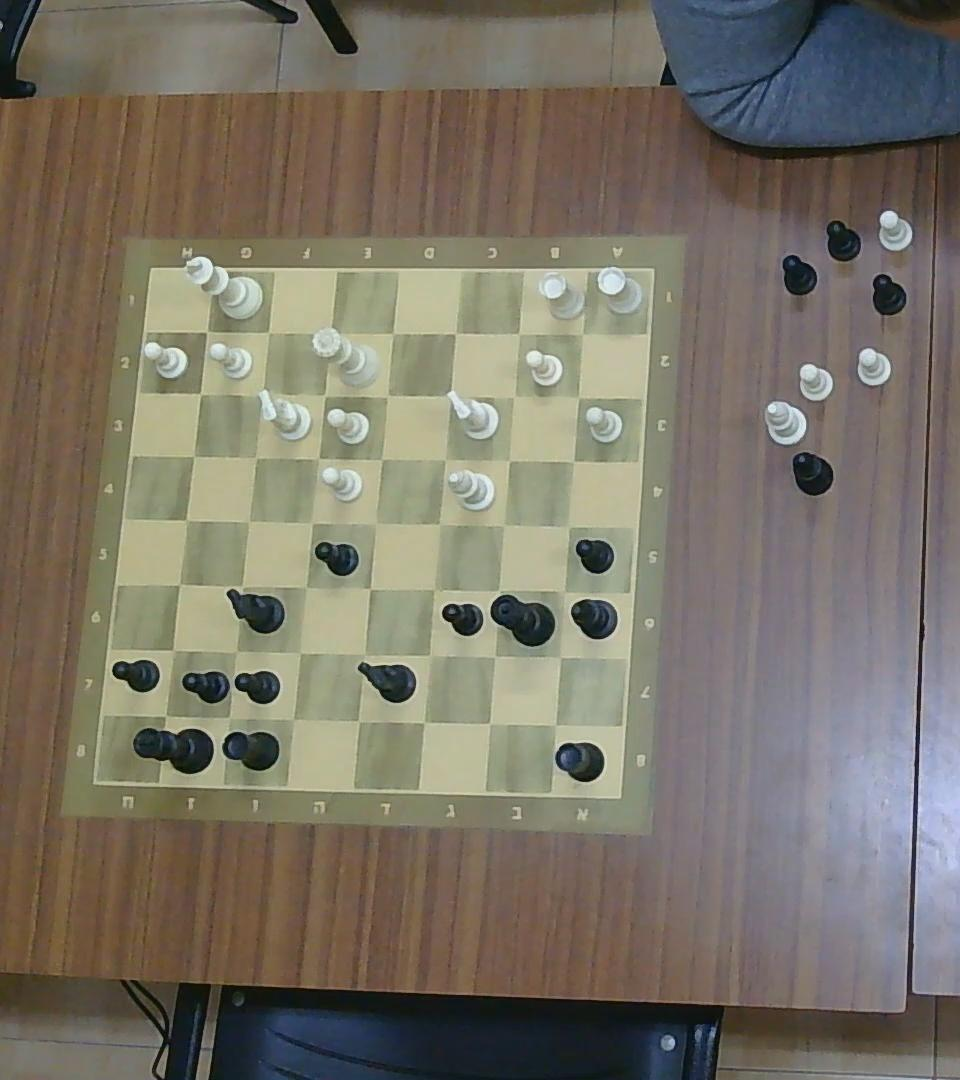xcorner: (215, 703, 241, 730), (477, 709, 503, 735), (280, 705, 305, 732), (411, 709, 437, 734), (541, 711, 567, 736), (153, 702, 178, 728), (167, 571, 192, 596), (346, 707, 370, 733), (547, 644, 572, 668), (561, 448, 585, 473), (161, 637, 185, 662), (288, 640, 311, 665), (482, 644, 505, 668), (427, 512, 450, 536), (236, 509, 259, 533), (229, 573, 252, 597), (318, 320, 341, 344), (557, 513, 580, 536), (419, 643, 442, 666), (352, 641, 375, 664), (487, 577, 510, 600), (175, 507, 197, 531), (224, 639, 246, 663), (363, 511, 385, 534), (196, 319, 218, 342), (422, 577, 444, 600), (182, 444, 204, 466), (438, 383, 460, 405), (552, 581, 575, 602), (493, 512, 513, 536), (295, 575, 315, 599), (258, 321, 279, 343), (251, 382, 272, 404), (360, 577, 380, 600), (371, 448, 392, 469), (498, 449, 518, 471), (301, 510, 321, 532), (568, 386, 590, 406), (445, 321, 465, 343), (383, 321, 403, 343), (434, 448, 454, 469), (376, 384, 396, 405), (508, 323, 528, 344), (308, 446, 327, 468), (246, 447, 266, 467), (189, 383, 209, 403), (315, 385, 334, 404), (504, 387, 524, 405), (573, 324, 591, 344)
